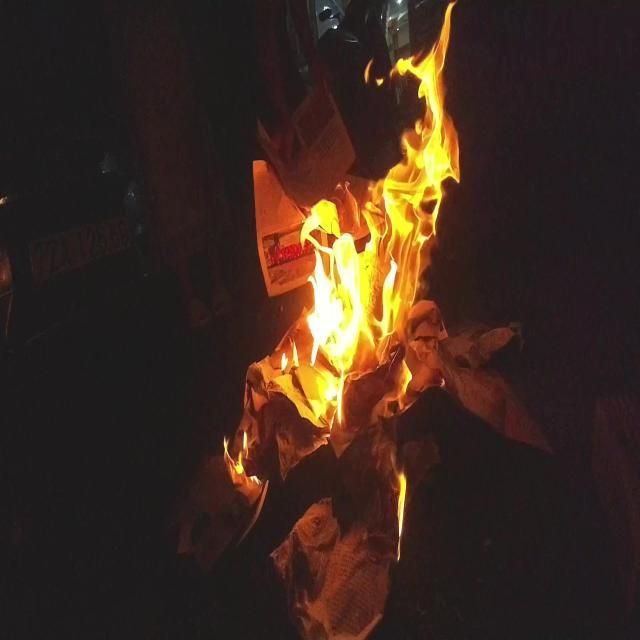Fire: (224, 0, 461, 563)
